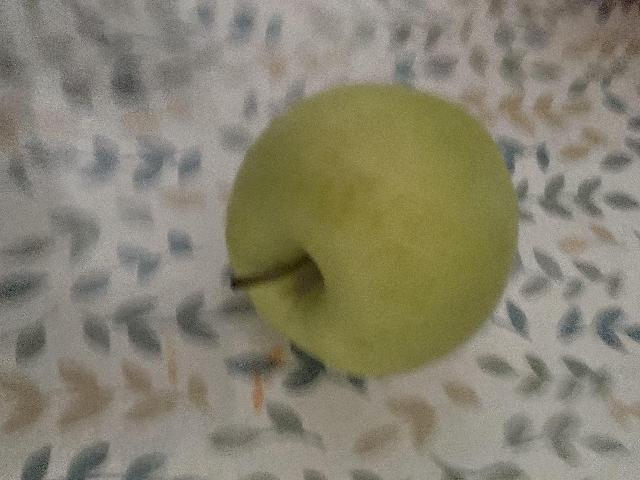Organik: (221, 62, 532, 379)
